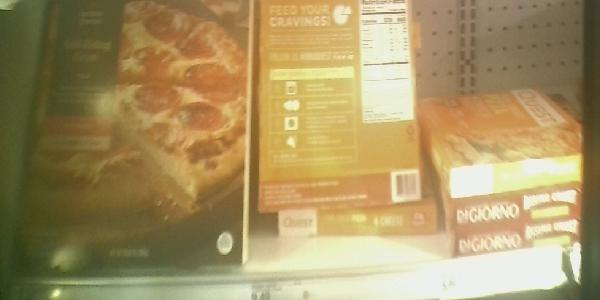pizza1: (30, 1, 247, 272), (259, 1, 425, 207)
pizza2: (449, 152, 583, 199), (455, 220, 581, 262), (455, 186, 581, 227)
